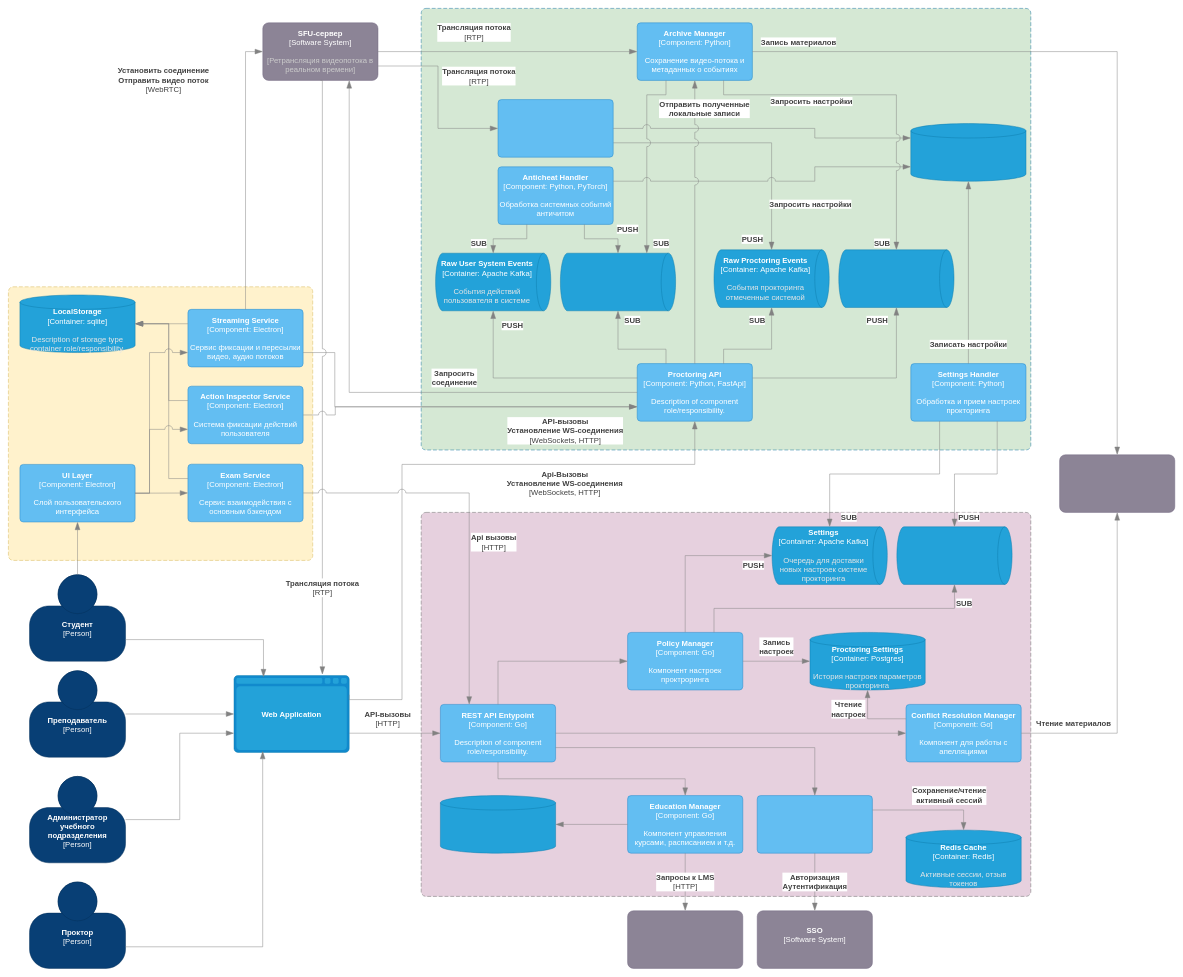
Image size: 1183x977. Some labels were removed from this diagram. The box of each missing label's shape, as (x1, y1, x2, y2) in pixels:
Auth Manager [Component: Go] Компонент управления учетными записями: (757, 795, 872, 853)
Course Database [Container: Postgres] Данные для сопоставления курсов: (440, 795, 556, 853)
Exam Desktop App [Electron]: (8, 286, 313, 560)
LMS Moodle [Software System]: (627, 910, 743, 968)
Main Backend [Go]: (421, 512, 1031, 896)
Proccessed Anticheat Events [Container: Apache Kafka] Подтвержденные события: (560, 253, 676, 311)
Proceessed Proctoring Events [Container: Apache Kafka] Подтвержденные события: (838, 249, 954, 307)
Proctoring Server [Python]: (421, 8, 1031, 450)
Proctoring Settings [Container: Redis] Актуальные настройки прокторинга: (910, 123, 1026, 181)
Response [Container: Apache Kafka] Очередь для подтверждения применения настроек: (896, 526, 1012, 584)
Stream Heandler [Component: Python, PyTorch] Обработка видео-потока: (498, 99, 613, 157)
Российское облачное хранилище [Software System]: (1059, 454, 1175, 512)
